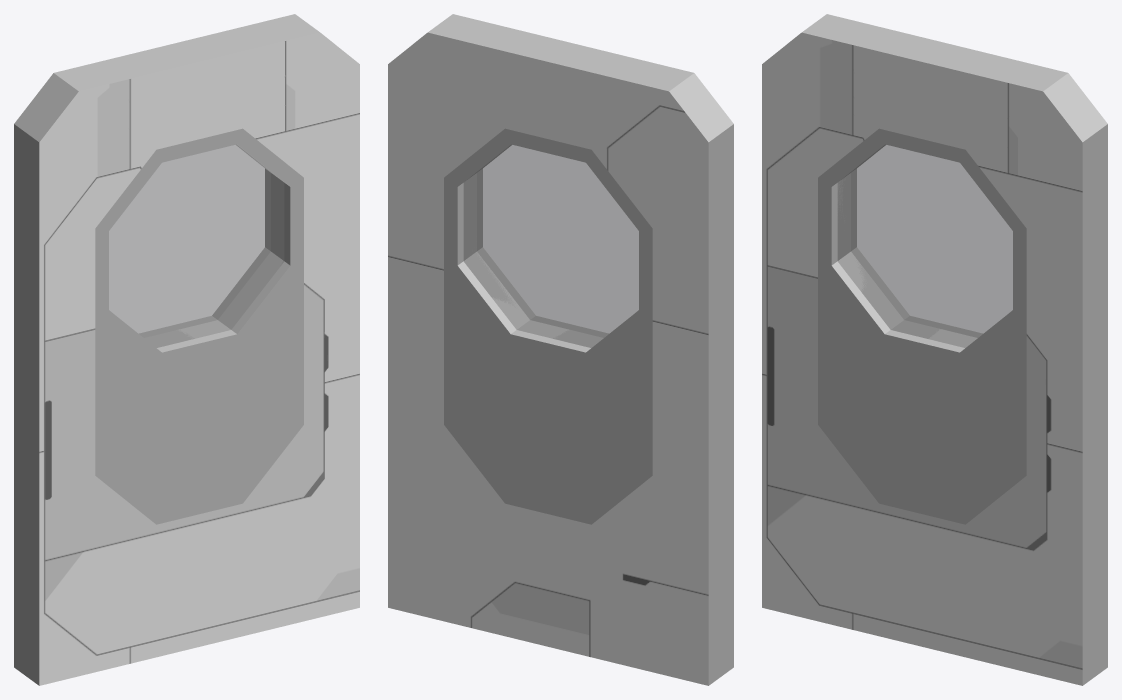
File: SM_3x3_Door_1.fbx
3 renders of one model, left to right at view 1: azimuth 30°, elevation 25°; view 2: azimuth 150°, elevation 25°; view 3: azimuth 330°, elevation 25°, orthographic.
Parts seen in each view (by area): view 1: SM_3x3_Door_1; view 2: SM_3x3_Door_1; view 3: SM_3x3_Door_1.
Boxes of the visible parts, left/top/right/bottom form: SM_3x3_Door_1: left=14, top=14, right=359, bottom=685; SM_3x3_Door_1: left=388, top=14, right=733, bottom=685; SM_3x3_Door_1: left=762, top=14, right=1107, bottom=685.
Size of the model in its own units: 129 by 224 by 17.59.
